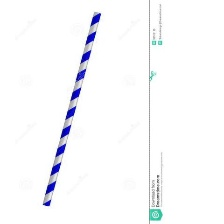drinking_straw: (36, 7, 106, 211)
